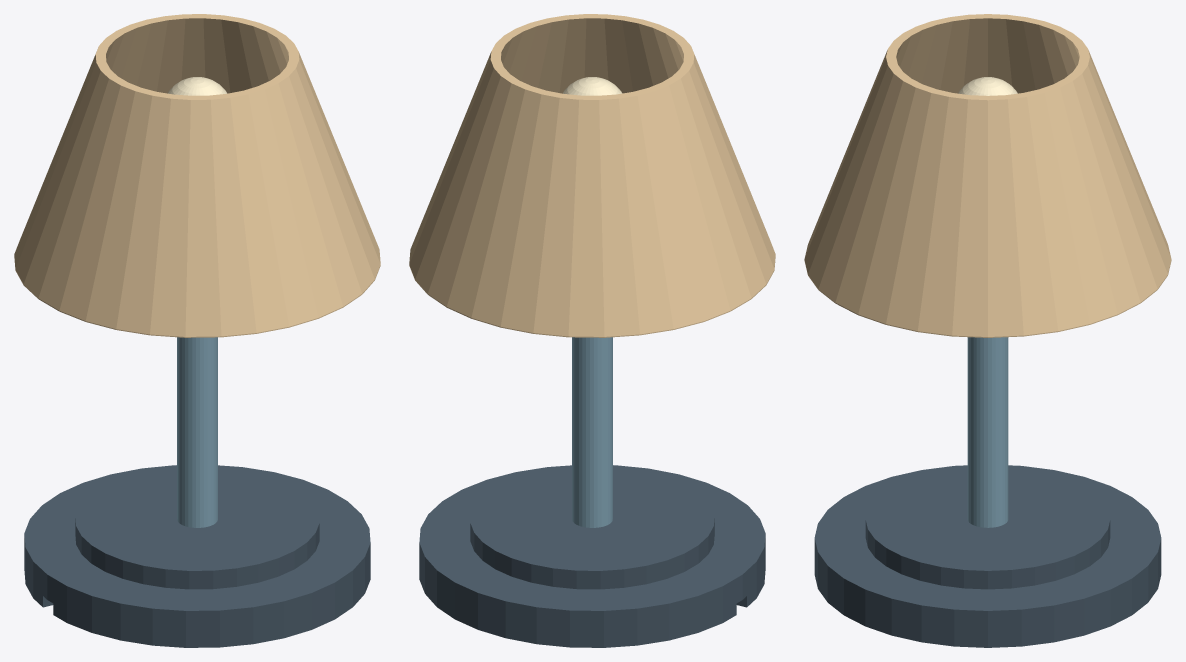
Rendered from edge-display-lamp.glb.
3 renders of one model, left to right at view 1: azimuth 30°, elevation 25°; view 2: azimuth 150°, elevation 25°; view 3: azimuth 270°, elevation 25°, orthographic.
Parts seen in each view (by area): view 1: LAMP_SHADE, LAMP_BASE, LAMP_STEM, LAMP_BULB; view 2: LAMP_SHADE, LAMP_BASE, LAMP_STEM, LAMP_BULB; view 3: LAMP_SHADE, LAMP_BASE, LAMP_STEM, LAMP_BULB.
Part boxes in pixels (x1=…): LAMP_SHADE: x1=14, y1=14, x2=380, y2=337; LAMP_BASE: x1=24, y1=465, x2=370, y2=647; LAMP_STEM: x1=177, y1=337, x2=217, y2=527; LAMP_BULB: x1=167, y1=77, x2=227, y2=95; LAMP_SHADE: x1=409, y1=14, x2=775, y2=337; LAMP_BASE: x1=419, y1=465, x2=765, y2=647; LAMP_STEM: x1=572, y1=337, x2=612, y2=527; LAMP_BULB: x1=562, y1=77, x2=622, y2=95; LAMP_SHADE: x1=804, y1=14, x2=1171, y2=337; LAMP_BASE: x1=814, y1=465, x2=1161, y2=647; LAMP_STEM: x1=967, y1=337, x2=1008, y2=527; LAMP_BULB: x1=958, y1=77, x2=1017, y2=95.
Size of the model in its own units: 72 by 112 by 72.
